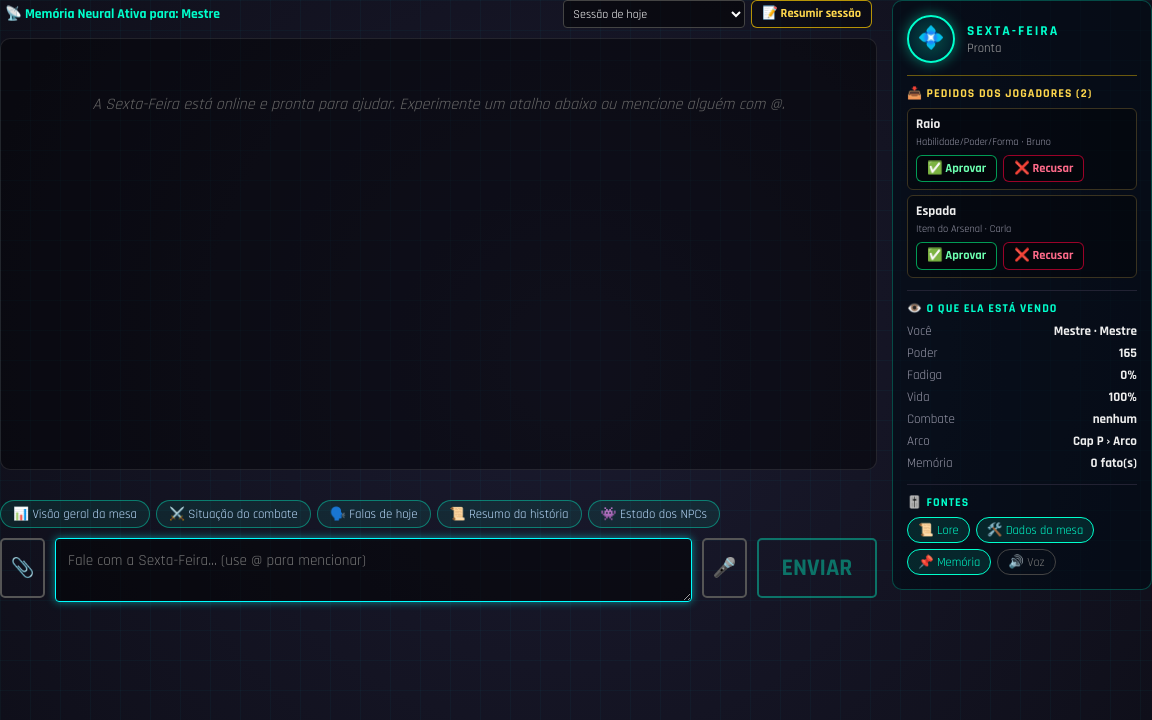
Test: PendentesMestre › expandir mostra detalhes e avisos; clicar de novo recolhe
Click the button with class "sexta-pendente-cabecalho" that starts with "Raio": (1022, 132) [916, 116, 1128, 149]
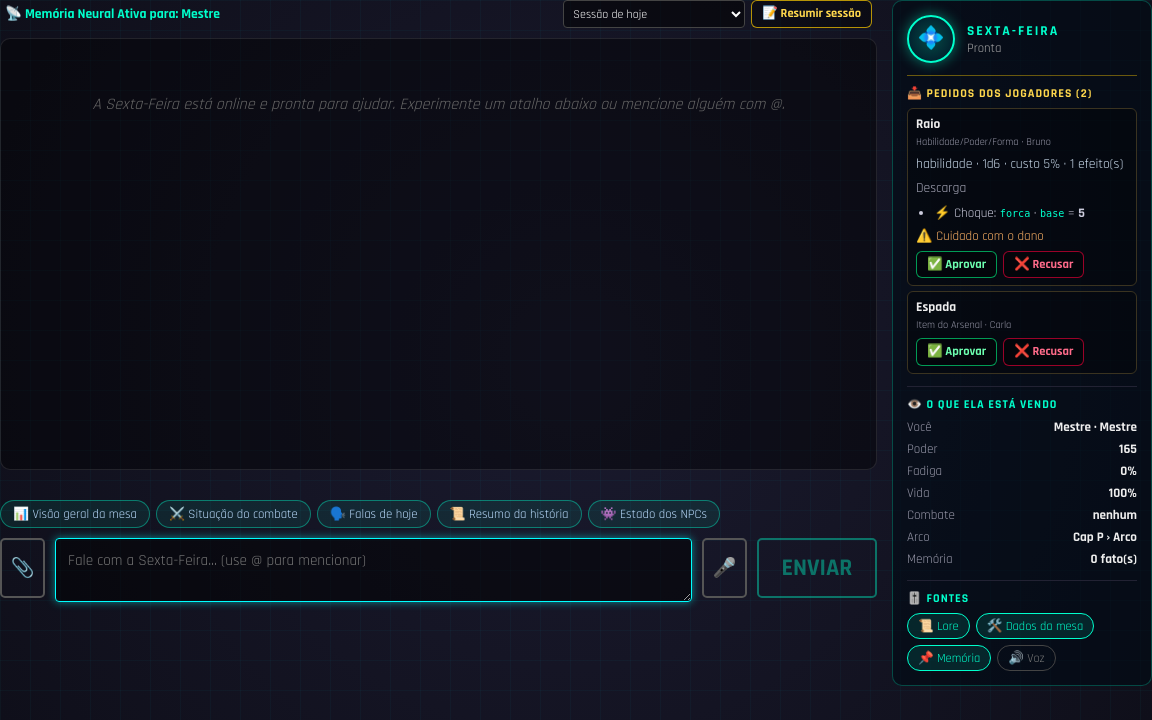
Now the element with class "sexta-criacao-detalhes" shows "Descarga", box [916, 179, 966, 197]
Now the element with class "sexta-criacao-detalhes" shows "Choque", box [954, 205, 994, 222]
Now the element with class "sexta-criacao-detalhes" shows "Cuidado com o dano", box [936, 228, 1044, 245]
Click the button with class "sexta-pendente-cabecalho" that starts with "Raio": (1022, 132) [916, 116, 1128, 149]
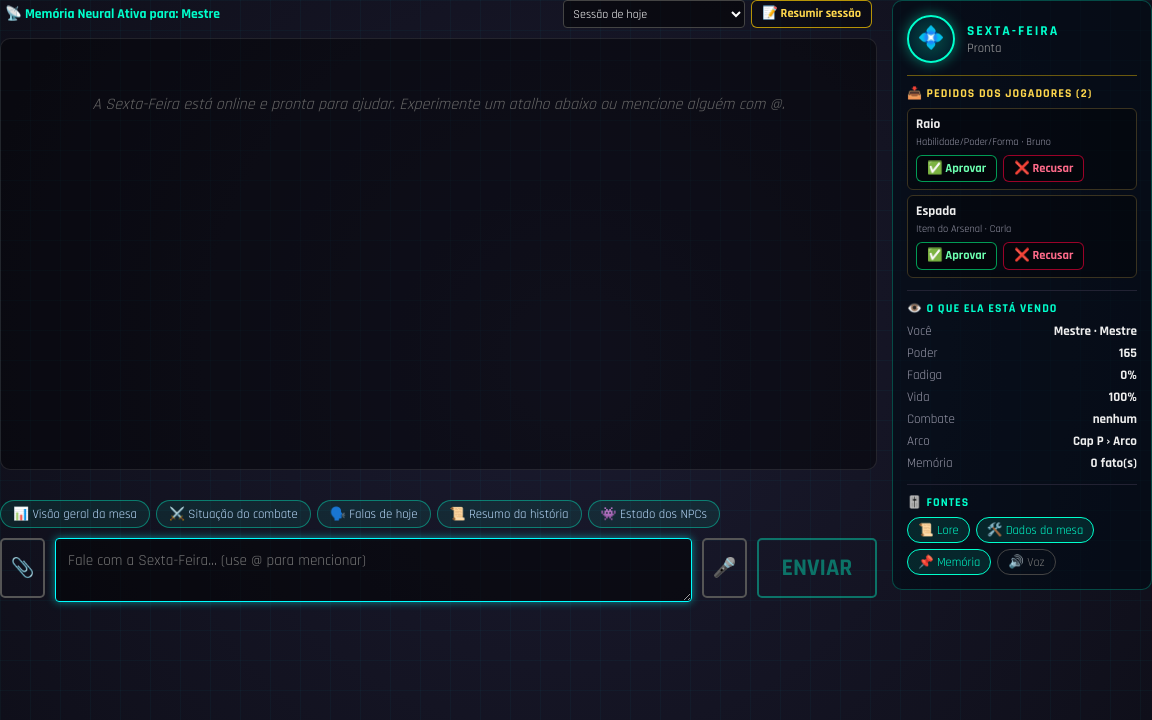
Now the element with class "sexta-criacao-detalhes" is gone
